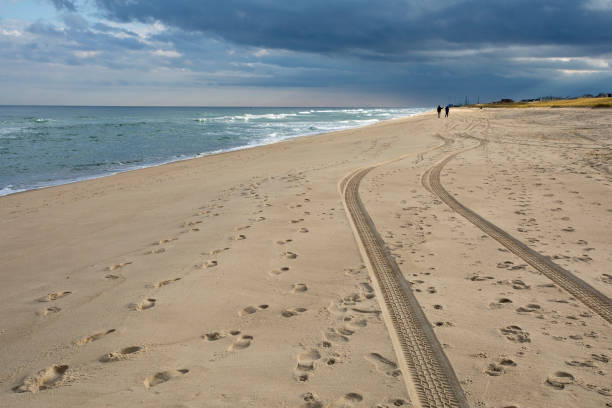vehicle_track: (422, 145, 611, 322), (339, 166, 467, 407)
